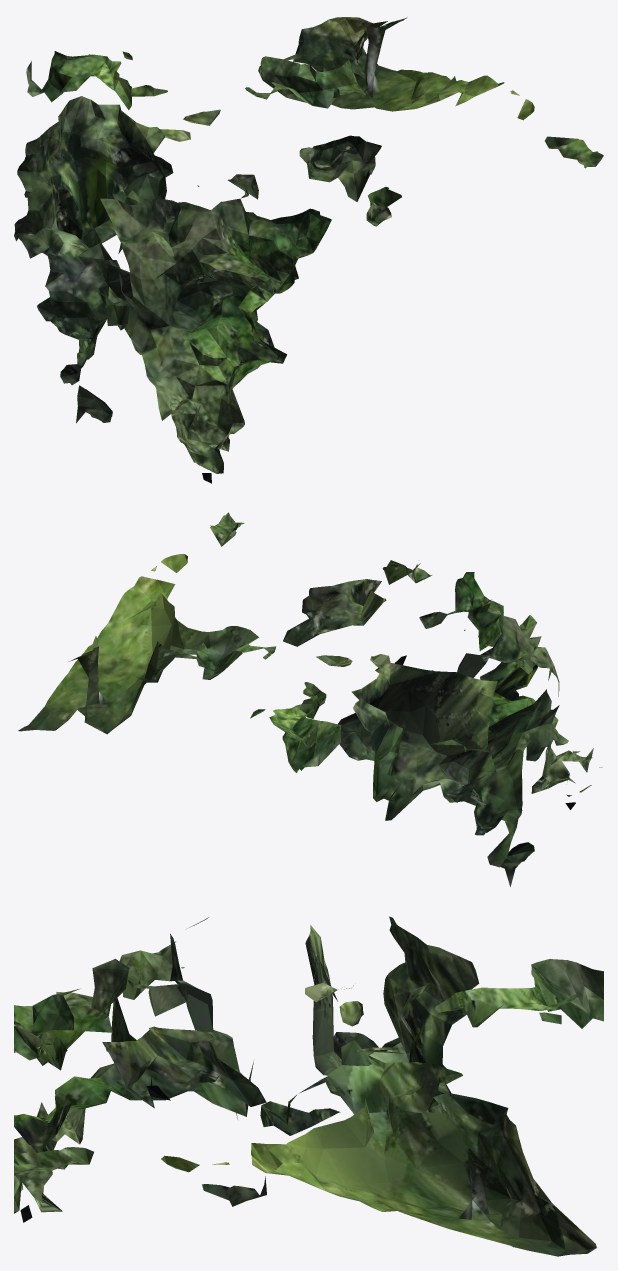
The picture shows the model from 3 angles, top to bottom: view 1: azimuth 30°, elevation 25°; view 2: azimuth 150°, elevation 25°; view 3: azimuth 270°, elevation 25°; orthographic projection. The views are drawn at different scales.
Bounding box in the file's own units: 26.11 × 14.32 × 26.11.
Materials: 3 (3 with a texture image).
